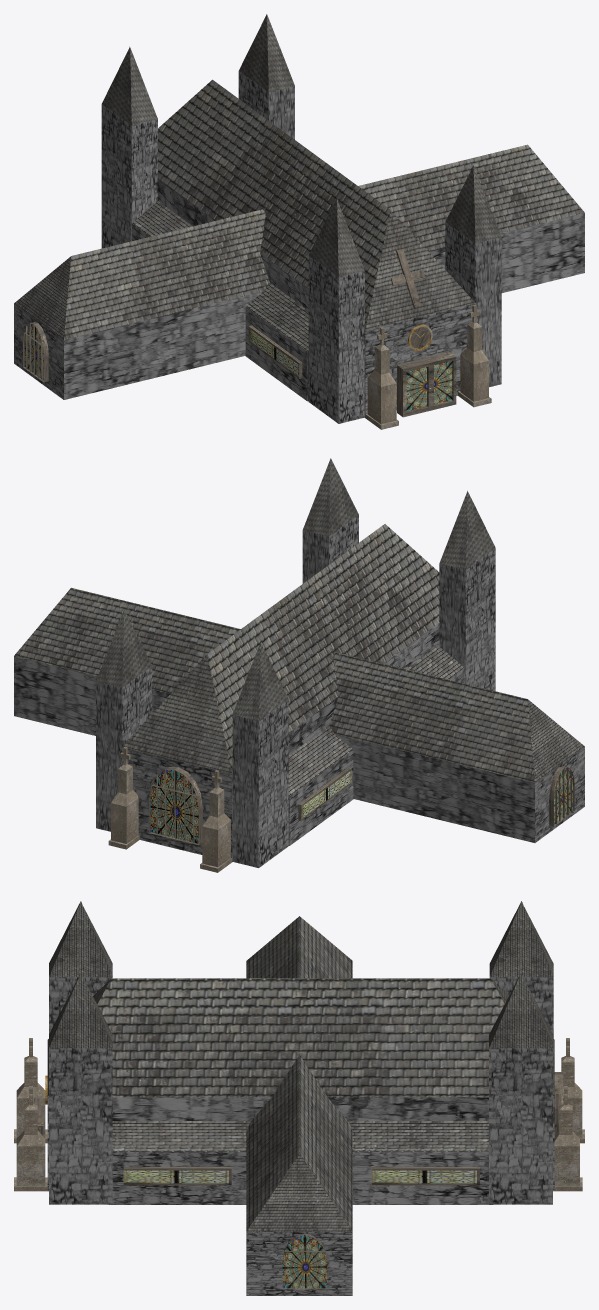
File: church2-modified-02.fbx
3 renders of one model, top to bottom at view 1: azimuth 30°, elevation 25°; view 2: azimuth 150°, elevation 25°; view 3: azimuth 270°, elevation 25°, orthographic. The views are drawn at different scales.
Parts seen in each view (by area): view 1: Cube.002, Cube.021, Cube.014, Cube.011, Cube.018, Cube.012, Cube.016, Cube.017, Cube.003, Cube, Cube.001, Cube.023 (+1 smaller); view 2: Cube.002, Cube.021, Cube.014, Cube.018, Cube.011, Cube.017, Cube.016, Cube.012, Cube.015, Cube.005, Cube.006, Cube.023 (+1 smaller); view 3: Cube.002, Cube.014, Cube.013, Cube.012, Cube.017, Cube.021, Cube.018, Cube.011, Cube.001, Cube.024, Cube.009, Cube.008 (+3 smaller).
Part boxes in pixels (x1,y1,x2,y2): Cube.002: (157,79,475,417); Cube.021: (14,209,269,399); Cube.014: (358,144,584,292); Cube.011: (308,198,364,423); Cube.018: (101,46,157,248); Cube.012: (445,165,501,387); Cube.016: (132,201,308,401); Cube.017: (238,14,294,139); Cube.003: (397,352,456,417); Cube: (365,327,398,429); Cube.001: (458,304,491,407); Cube.023: (23,322,48,382); Cube.002: (121,524,439,862); Cube.021: (329,652,584,842); Cube.014: (14,587,240,735); Cube.018: (232,642,288,867); Cube.011: (439,491,495,691); Cube.017: (96,609,152,831); Cube.016: (288,645,464,845); Cube.012: (302,458,358,583); Cube.015: (149,767,202,845); Cube.005: (200,770,231,872); Cube.006: (108,747,139,849); Cube.023: (549,766,574,826); Cube.002: (47,978,554,1191); Cube.014: (246,1055,352,1295); Cube.013: (109,1121,492,1204); Cube.012: (49,973,112,1204); Cube.017: (489,973,552,1204); Cube.021: (246,916,352,978); Cube.018: (489,901,553,1038); Cube.011: (49,901,112,1033); Cube.001: (14,1086,47,1191); Cube.024: (282,1233,326,1289); Cube.009: (123,1167,231,1185); Cube.008: (372,1167,479,1185).
Size of the model in its own units: 11749 by 4503 by 10304.
Materials: 7 (7 with a texture image).
